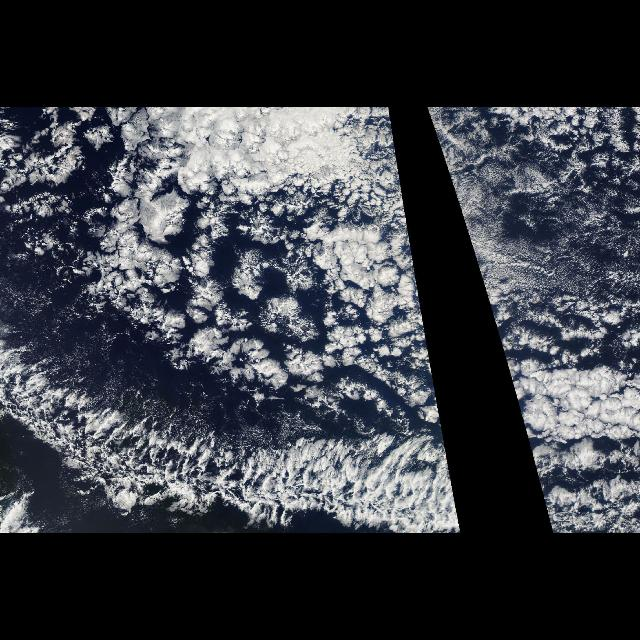Fish: (1, 327, 463, 533), (522, 426, 542, 494)
Flower: (86, 150, 437, 394)
Sugar: (472, 162, 640, 318)
